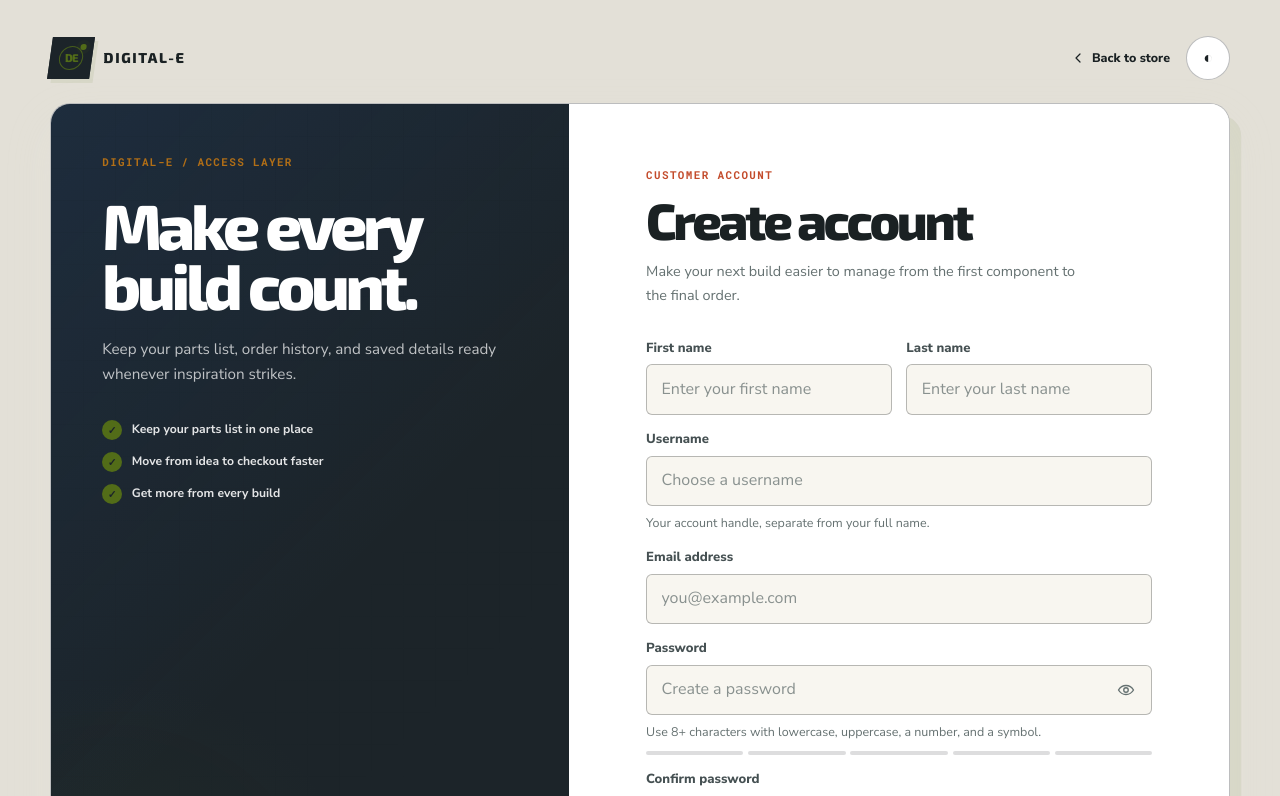
Test: SignupPage Firebase verification › disables signup and explains a mismatched password confirmation
In the field labelled "First name": (769, 390) [646,364,892,415], type "Demo"
In the field labelled "Last name": (1029, 390) [906,364,1152,415], type "Customer"
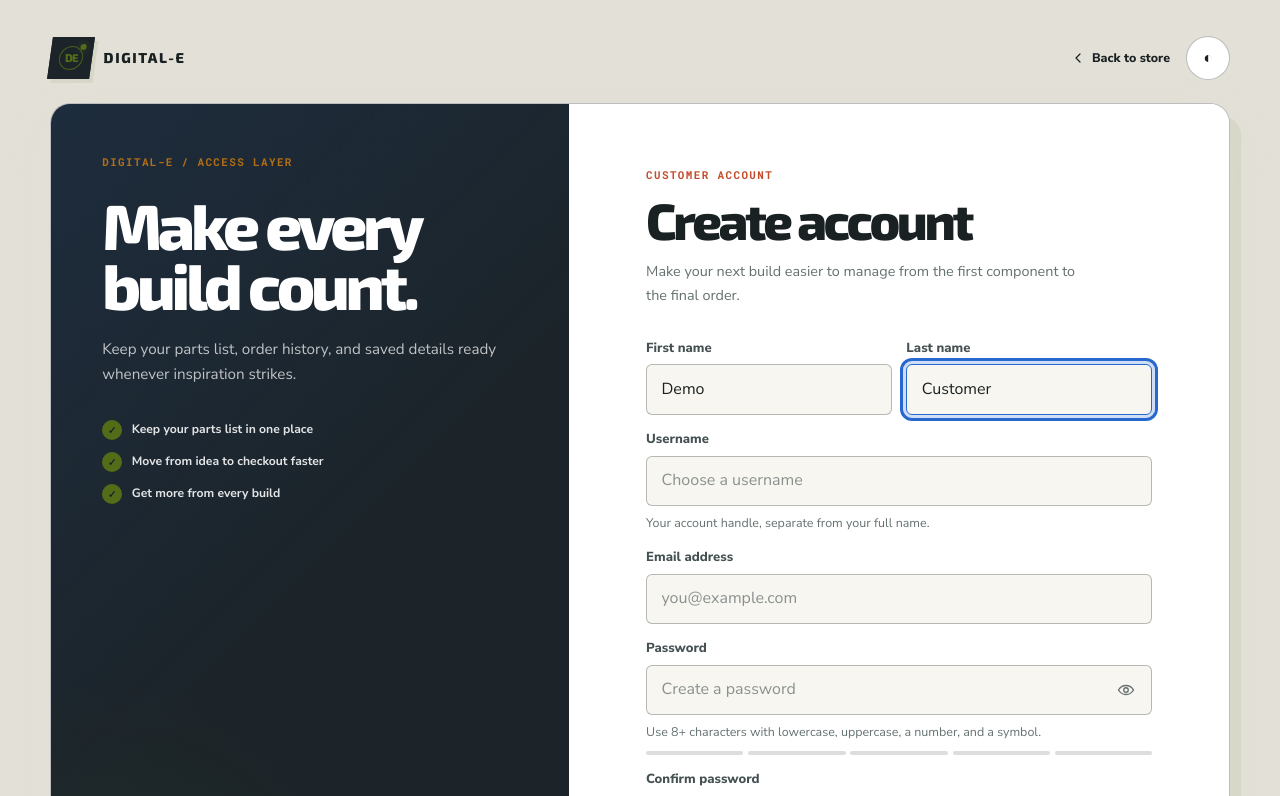
In the field labelled "Username": (899, 481) [646,456,1152,506], type "customer"
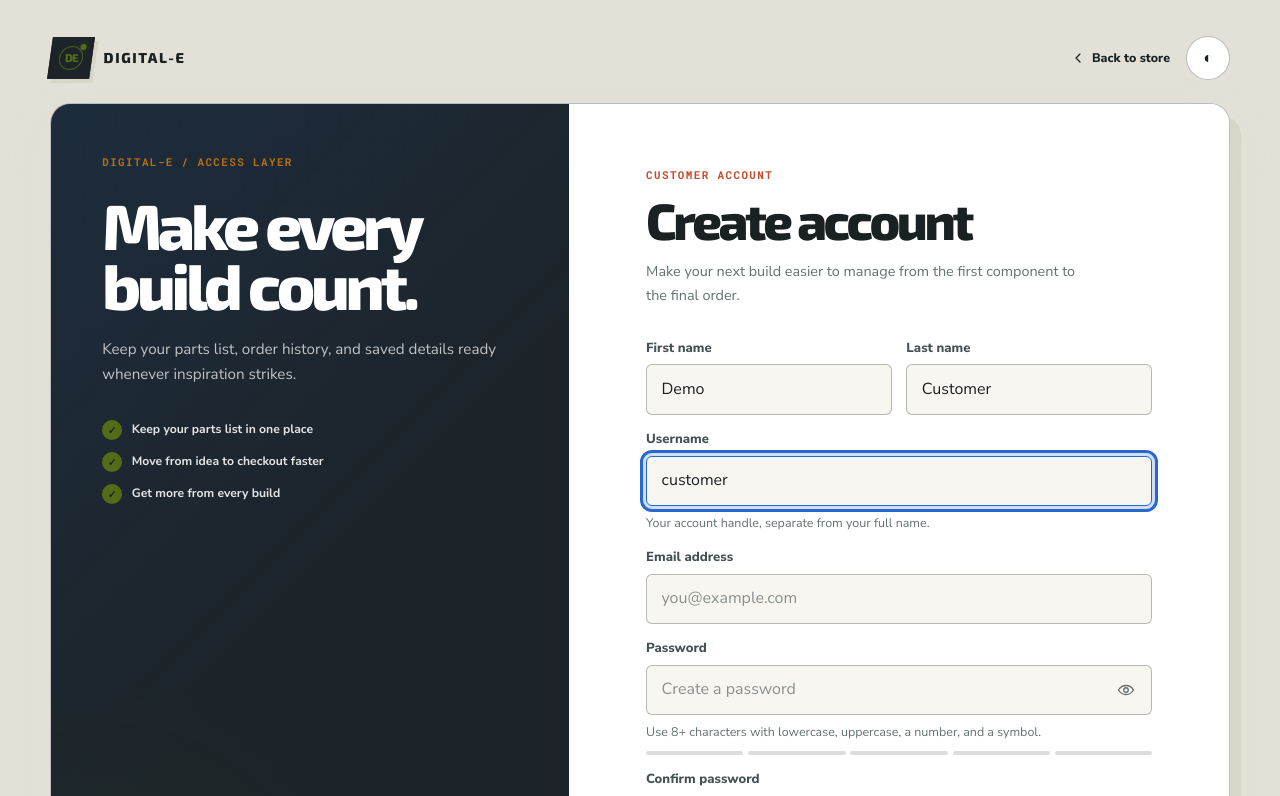
In the field labelled "Email address": (899, 599) [646,574,1152,624], type "customer@example.com"
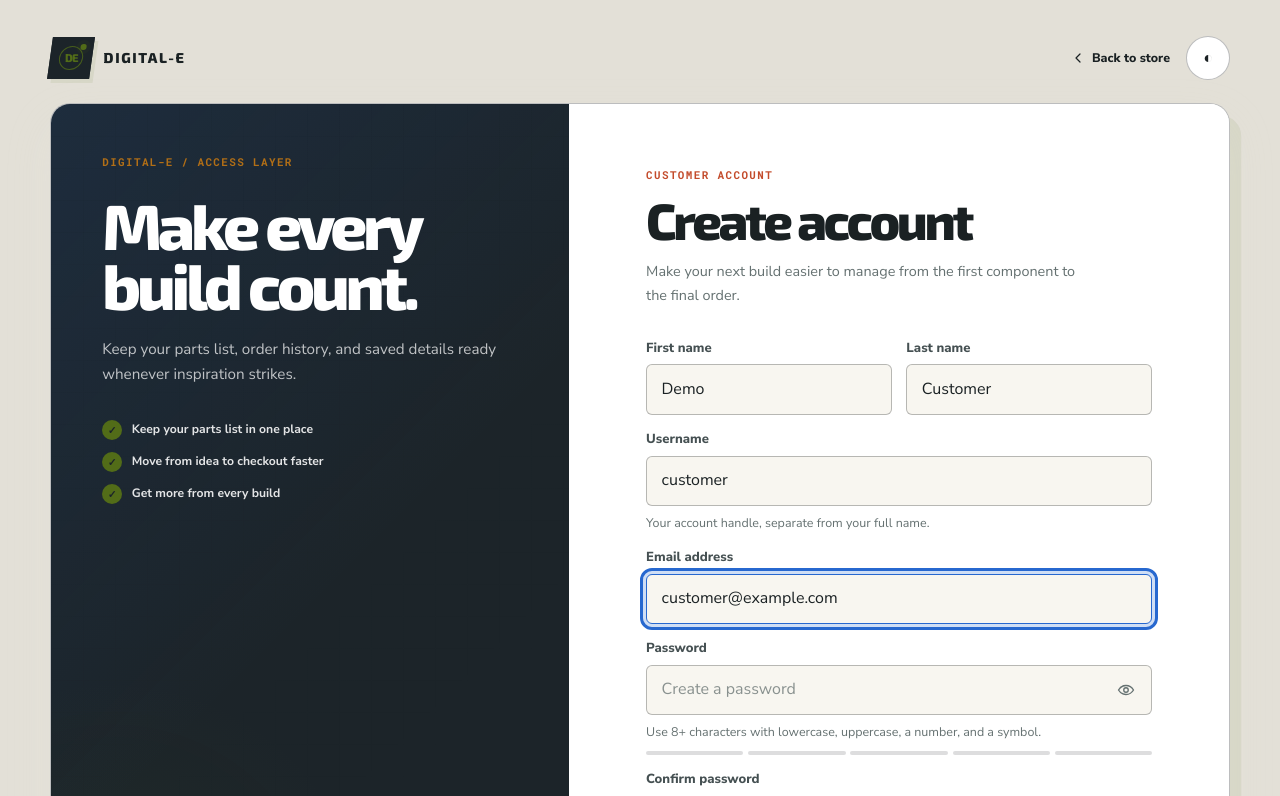
In the password field labelled "Password": (899, 690) [646,665,1152,715], type "short"
(page scrolled)
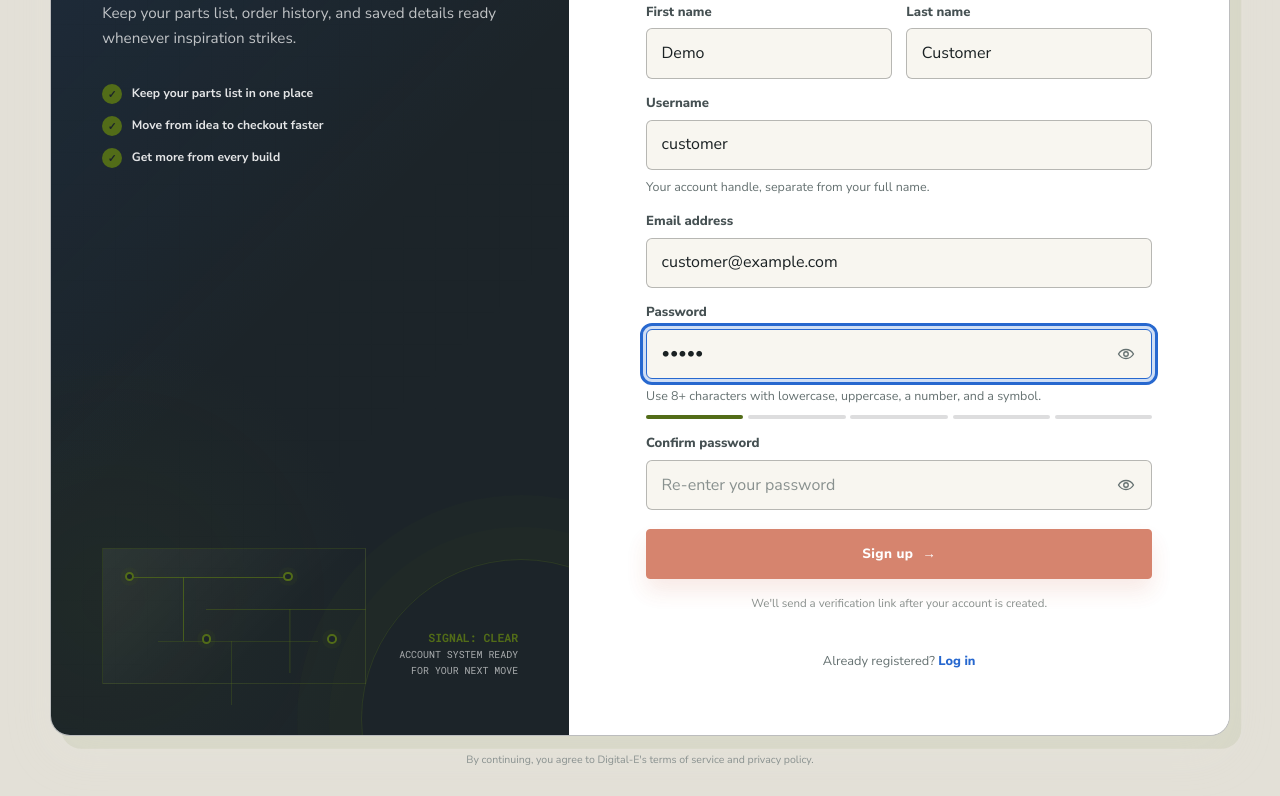
In the password field labelled "Confirm password": (899, 485) [646,460,1152,510], type "different"
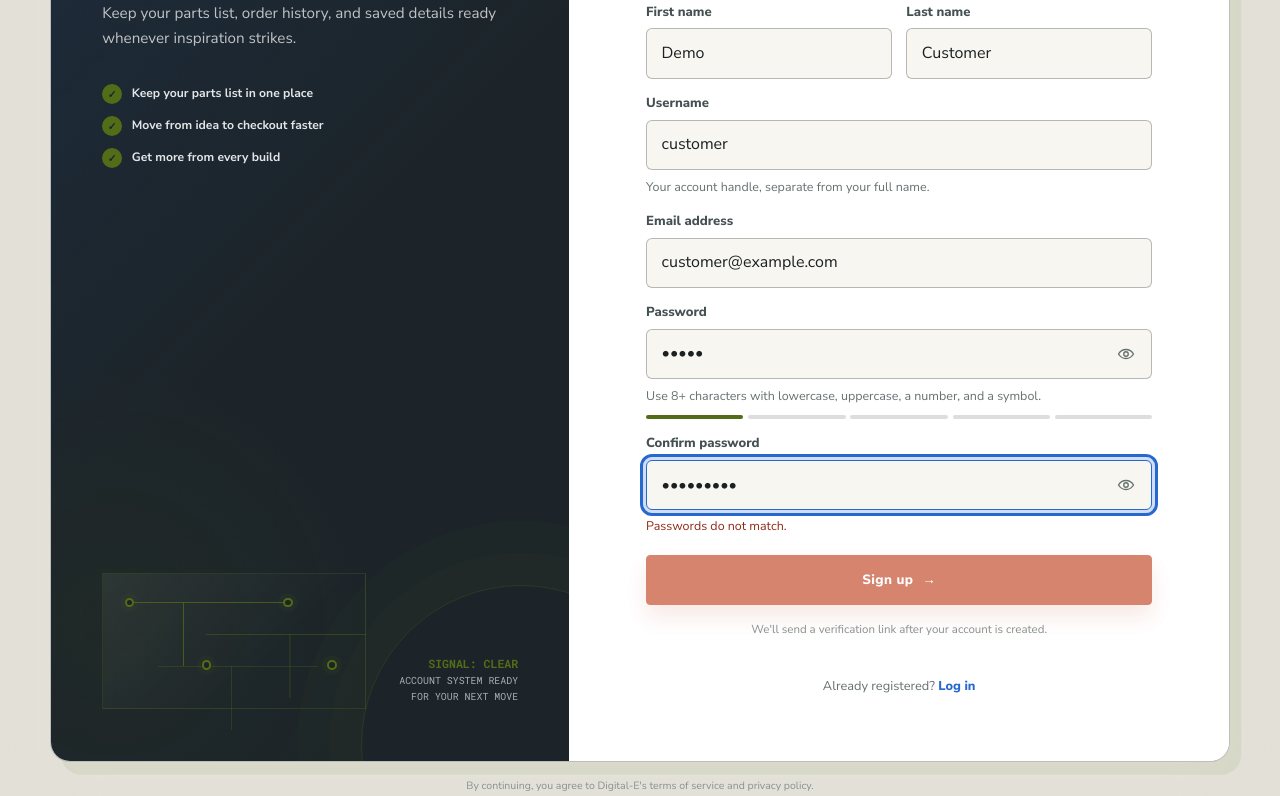
Expected: the button "Sign up →" is disabled, [646,555,1152,605]
Expected: the text "Passwords do not match." is shown, [646,518,787,534]
In the password field labelled "Confirm password": (899, 485) [646,460,1152,510], type "short"
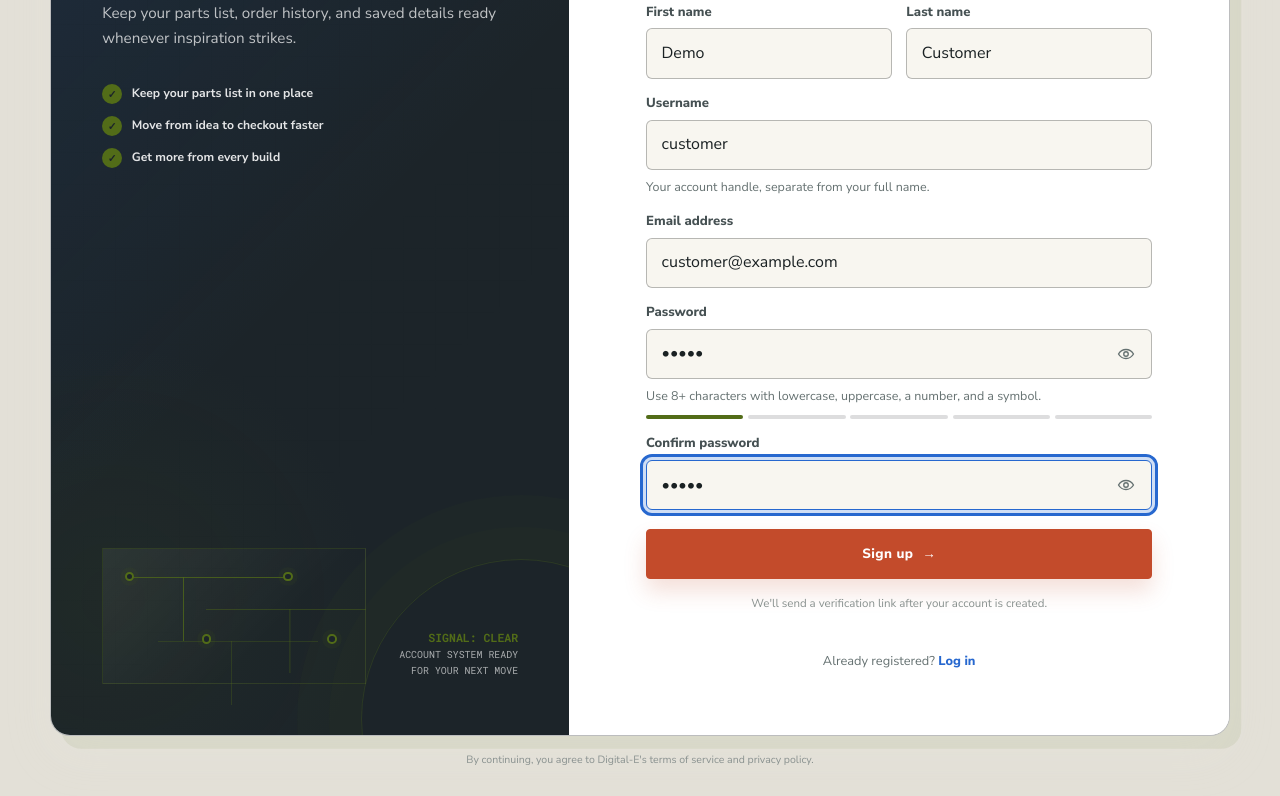
Expected: the button "Sign up →" is enabled, [646,529,1152,579]
